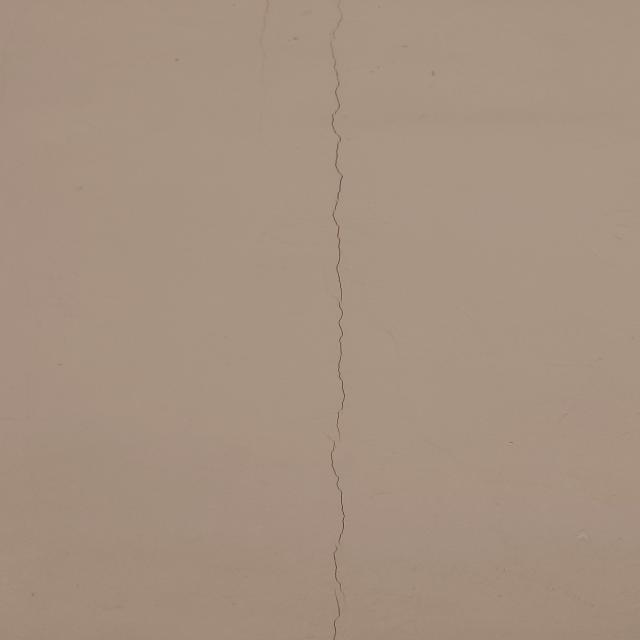Crack: (321, 6, 355, 640)
